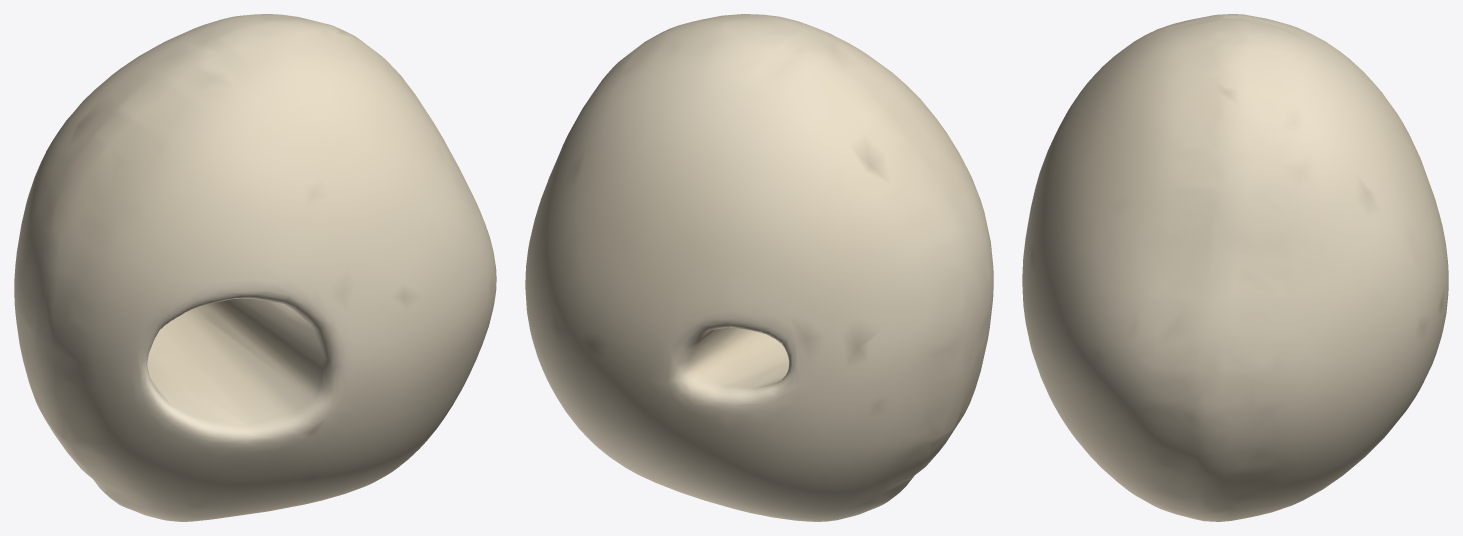
File: pawn-white.glb
3 views of the same model, side by side, from view 1: azimuth 30°, elevation 25°; view 2: azimuth 150°, elevation 25°; view 3: azimuth 270°, elevation 25° (orthographic).
Visible parts, largest first — view 1: Lumen pesec bila; view 2: Lumen pesec bila; view 3: Lumen pesec bila.
Part boxes in pixels (<box>): Lumen pesec bila: <box>14,14,496,521</box>; Lumen pesec bila: <box>525,14,993,521</box>; Lumen pesec bila: <box>1022,14,1448,521</box>.
Size of the model in its own units: 0.606 by 0.6196 by 0.535.
